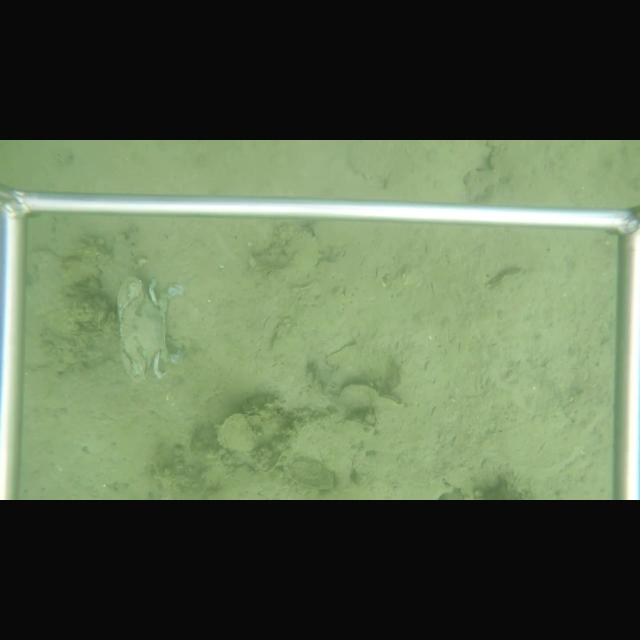Oyster-Closed: (214, 409, 294, 453), (339, 380, 407, 417), (281, 453, 338, 494), (482, 268, 530, 293)
